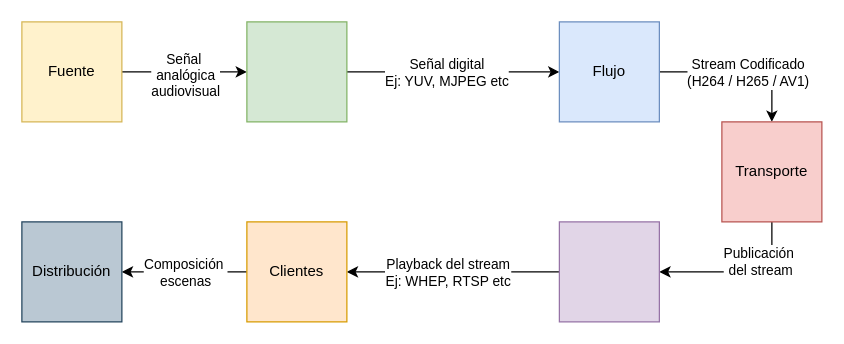
This 844x344 diagram has some shape labels left out. The shapes that lost their labels are listed below. From the top down, each one's centre as x and y in pixels, then its label:
At pixel 296 71: "Captura".
At pixel 608 271: "Media Server".
